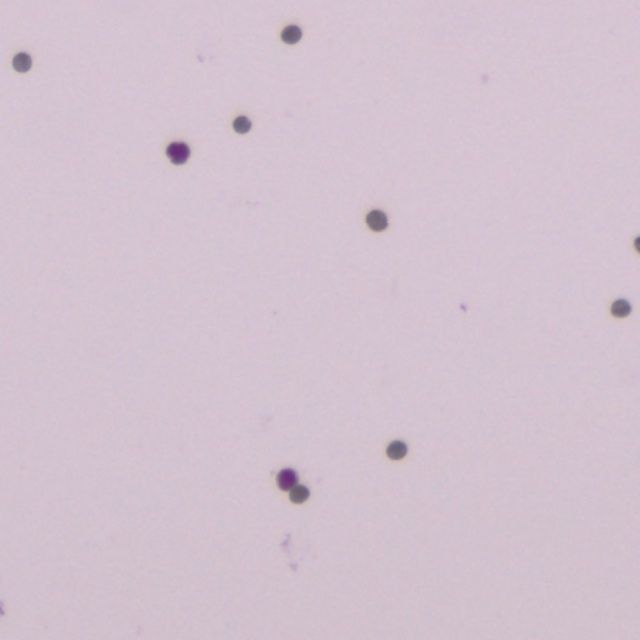non_viable: (366, 210, 387, 230), (12, 52, 31, 71), (281, 25, 301, 43), (386, 440, 406, 458), (611, 299, 630, 317), (233, 116, 250, 133), (290, 486, 306, 501)
viable: (166, 142, 189, 163), (278, 470, 296, 488)
